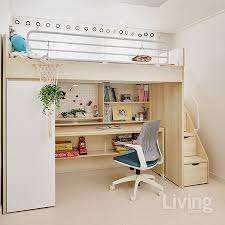Chair: (109, 118, 169, 202)
